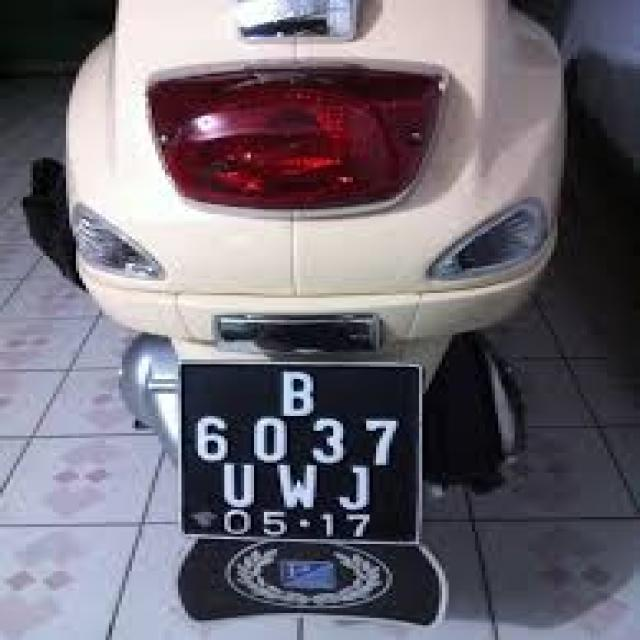plate: (178, 362, 419, 541)
